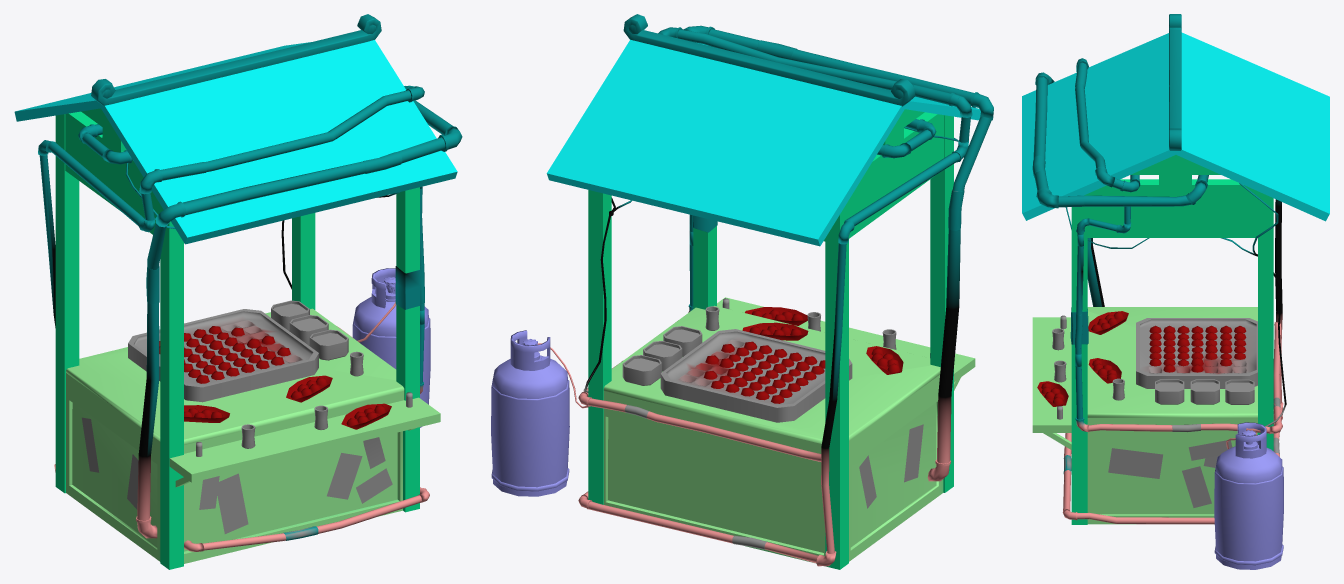
File: SM_ENV_LKNVLD_Stall_D.gltf
3 views of the same model, side by side, from view 1: azimuth 30°, elevation 25°; view 2: azimuth 150°, elevation 25°; view 3: azimuth 270°, elevation 25° (orthographic). The views are drawn at different scales.
Parts seen in each view (by area): view 1: SM_ENV_LKNVLD_Stall_D; view 2: SM_ENV_LKNVLD_Stall_D; view 3: SM_ENV_LKNVLD_Stall_D.
Part boxes in pixels (left/top/right/bottom): SM_ENV_LKNVLD_Stall_D: left=14, top=14, right=462, bottom=569; SM_ENV_LKNVLD_Stall_D: left=491, top=14, right=993, bottom=569; SM_ENV_LKNVLD_Stall_D: left=1022, top=14, right=1329, bottom=569.
Bounding box in the file's own units: 2.85 × 3.19 × 2.23.
